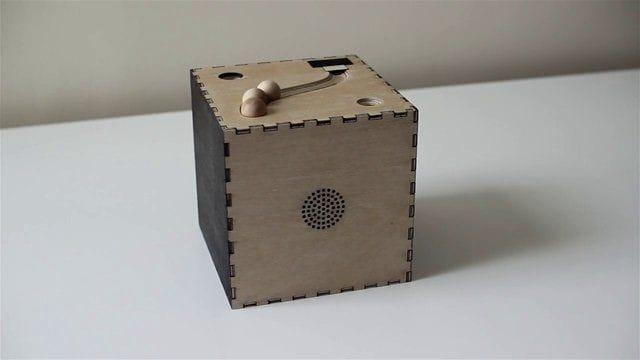cubos: (181, 44, 433, 314)
